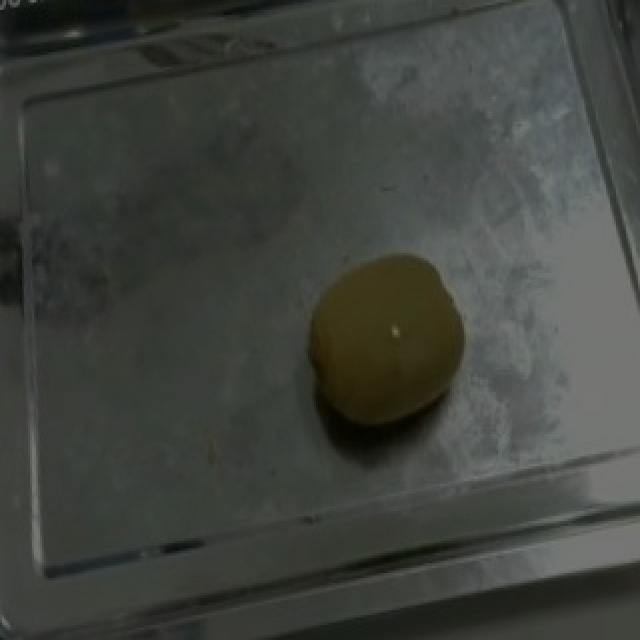Fruit: (288, 231, 488, 464)
